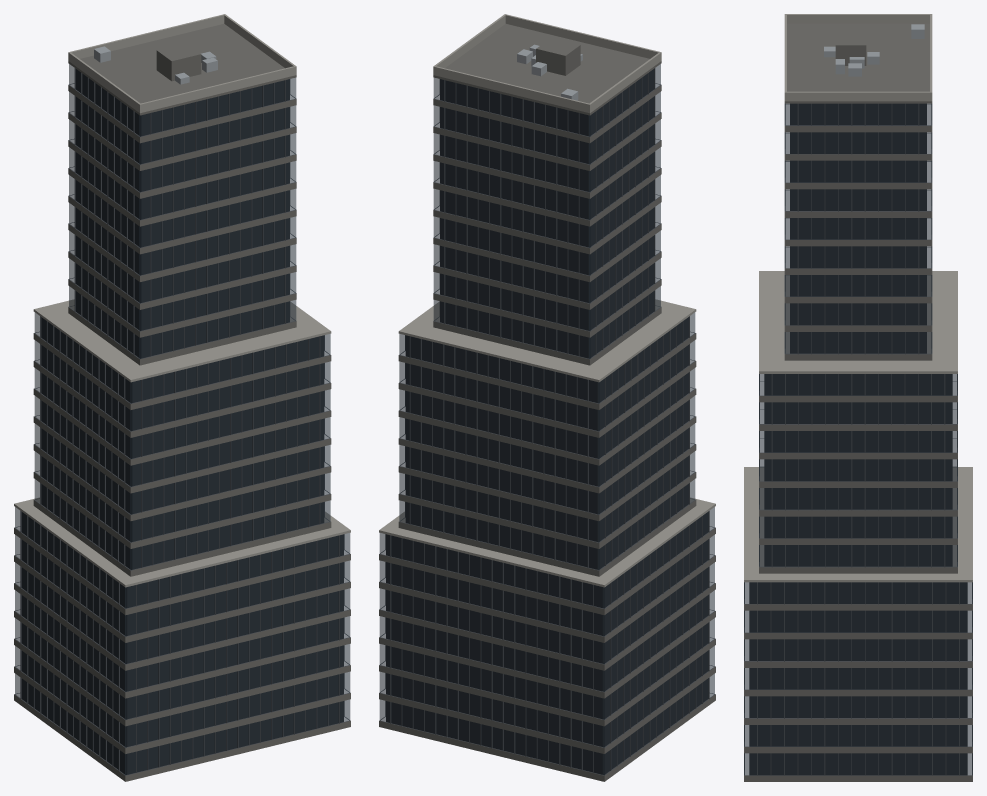
The model's file is tower-1.glb.
The picture shows the model from 3 angles, left to right: view 1: azimuth 30°, elevation 25°; view 2: azimuth 150°, elevation 25°; view 3: azimuth 270°, elevation 25°; orthographic projection. The views are drawn at different scales.
Parts seen in each view (by area): view 1: tower-1; view 2: tower-1; view 3: tower-1.
Boxes of the visible parts, bbox=[...] form: tower-1: bbox=[14, 14, 350, 781]; tower-1: bbox=[379, 14, 715, 781]; tower-1: bbox=[744, 14, 972, 781].
Size of the model in its own units: 30.58 by 86.3 by 26.16.
